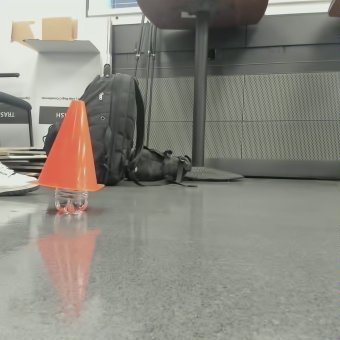Cone: (49, 93, 112, 180)
